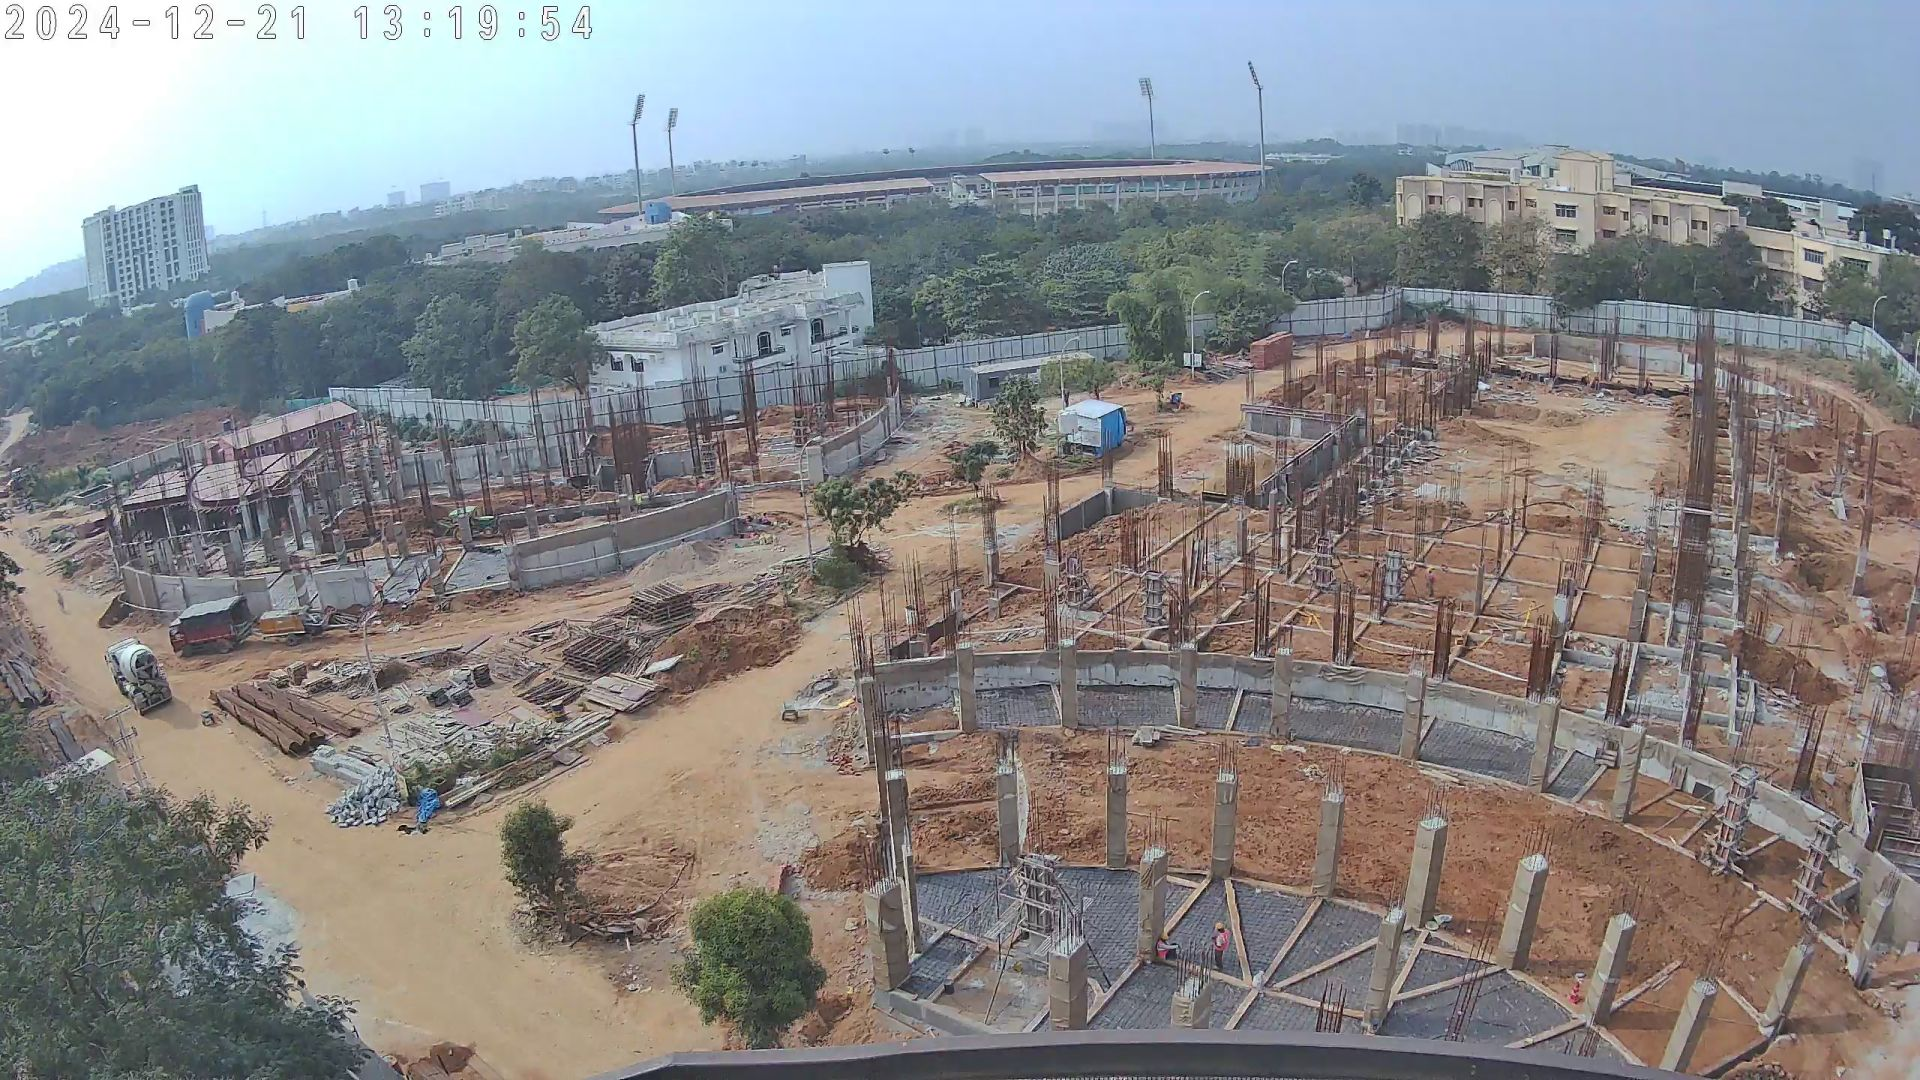bulldozer: (436, 508, 507, 544)
truck: (99, 638, 173, 721), (167, 596, 255, 655), (264, 602, 354, 648)
worker: (1209, 921, 1239, 978), (1151, 931, 1184, 966), (369, 574, 389, 605), (696, 477, 711, 501), (1423, 565, 1433, 598), (634, 488, 644, 512), (759, 509, 771, 527), (741, 513, 753, 529)
